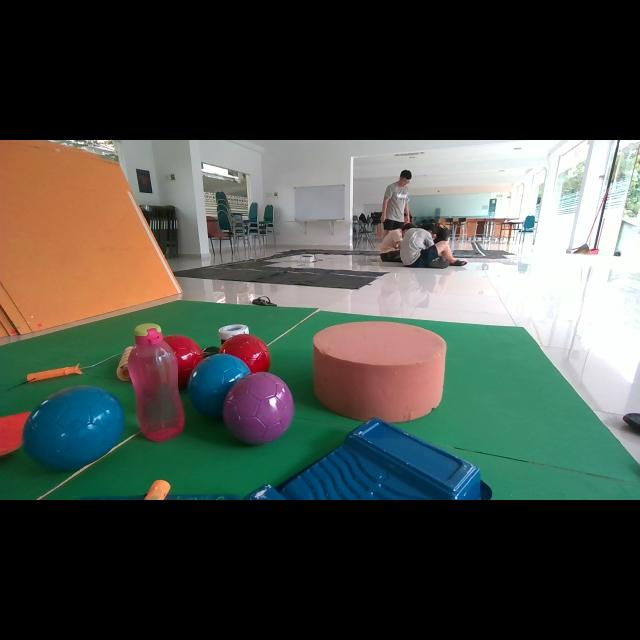B: (24, 386, 125, 470), (188, 354, 250, 418)
P: (222, 371, 295, 444)
R: (164, 335, 204, 388), (220, 334, 271, 373)
